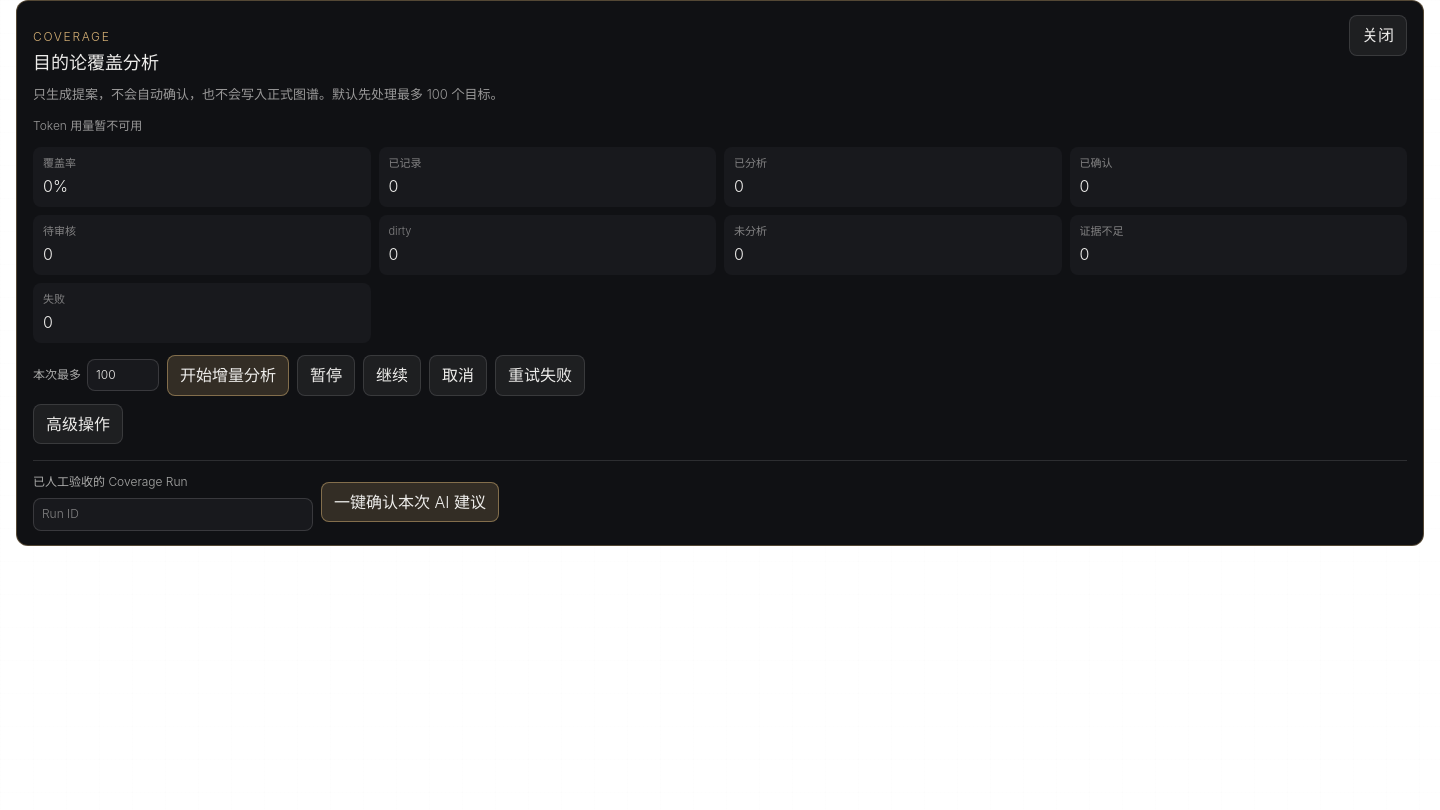
Test: confirms a reviewed coverage run only after a dry-run preview
Type "run-1" into the field labelled "已人工验收的 Coverage Run" at (173, 514), box [33,498,313,530]
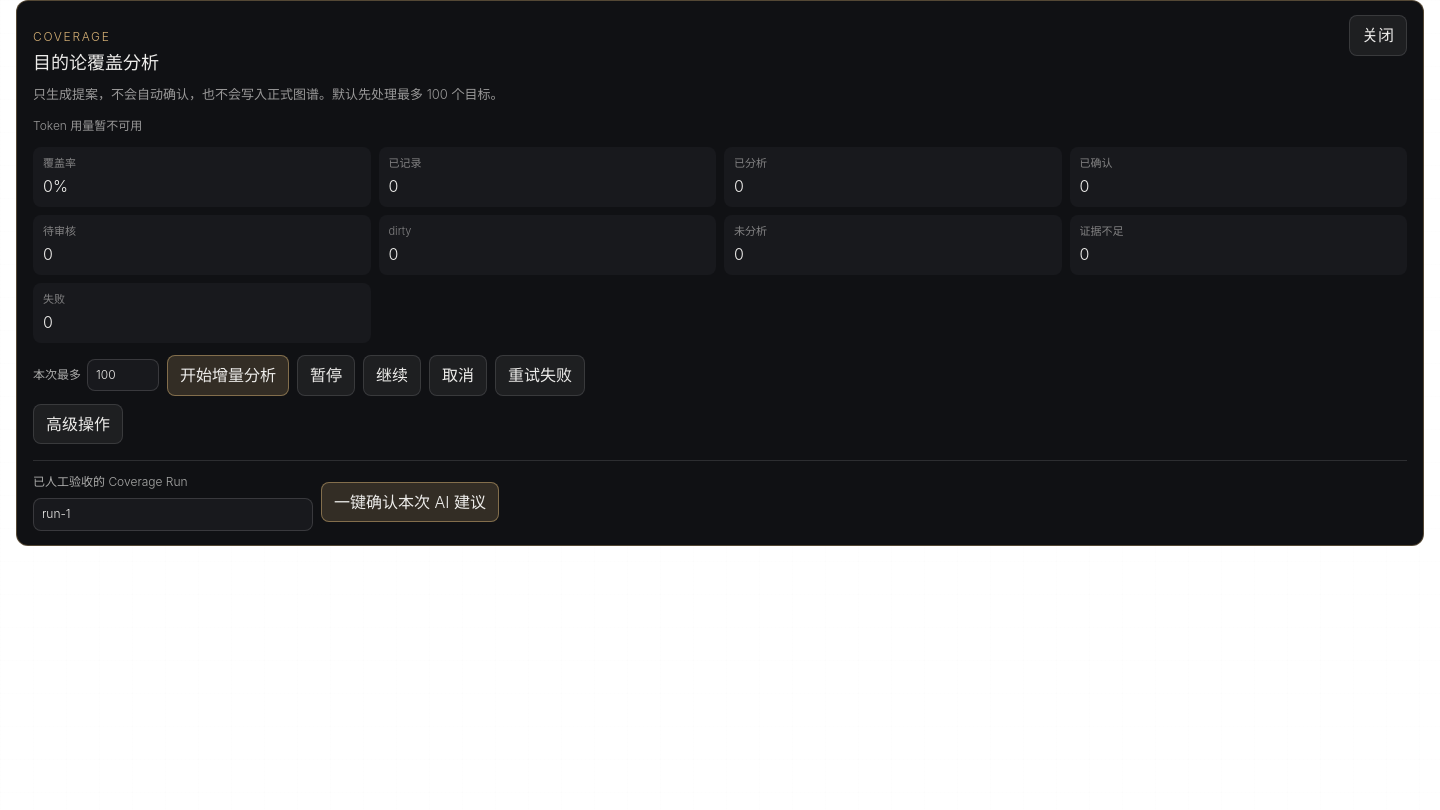
Click the button "一键确认本次 AI 建议" at (410, 502), box [321,482,499,522]
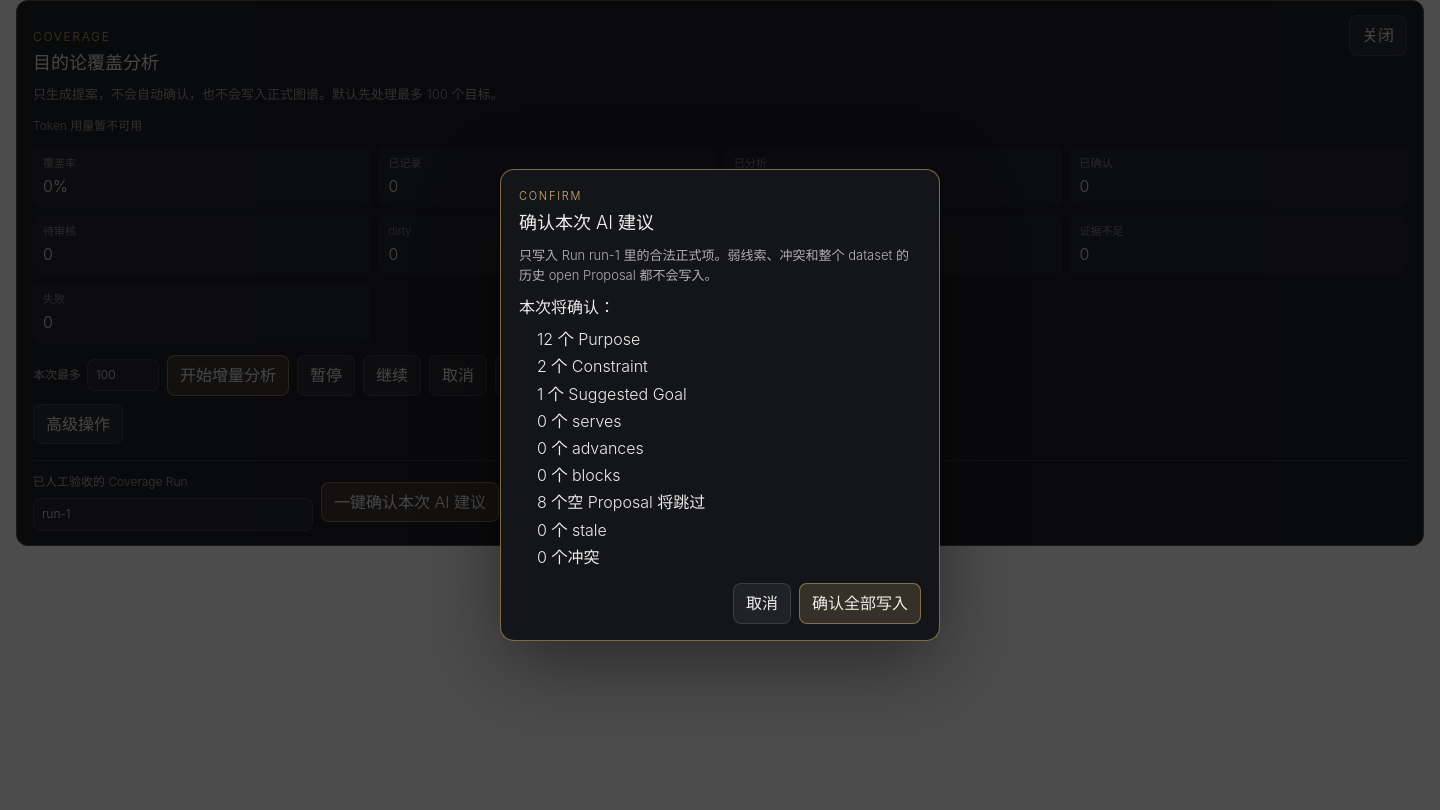
Expected: the list item "12 个 Purpose" is shown, [537,329,640,349]
Expected: the list item "2 个 Constraint" is shown, [537,356,648,376]
Expected: the list item "1 个 Suggested Goal" is shown, [537,384,687,404]
Click the button "取消" at (762, 603), box [733,583,791,624]
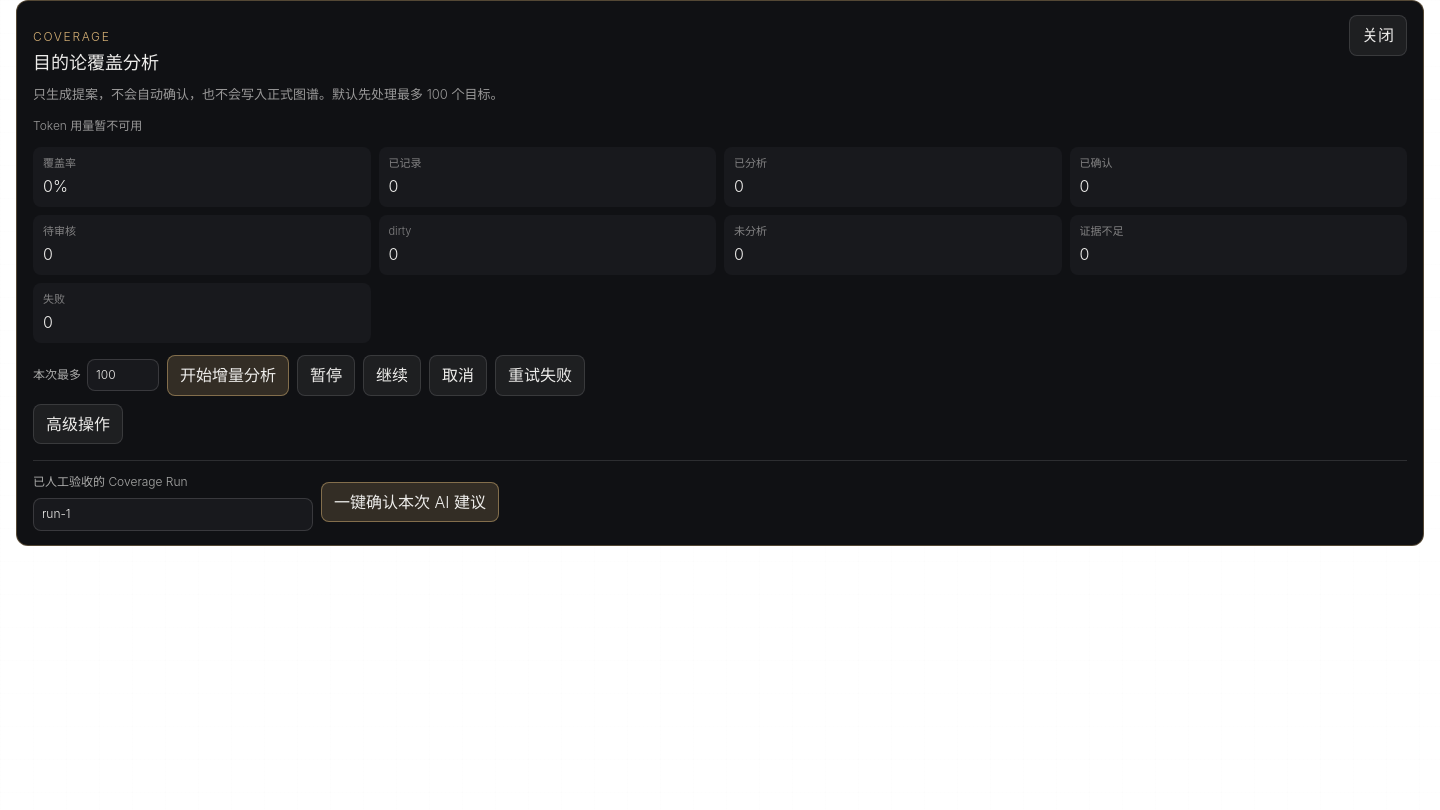
Expected: the dialog is gone
Click the button "一键确认本次 AI 建议" at (410, 502), box [321,482,499,522]
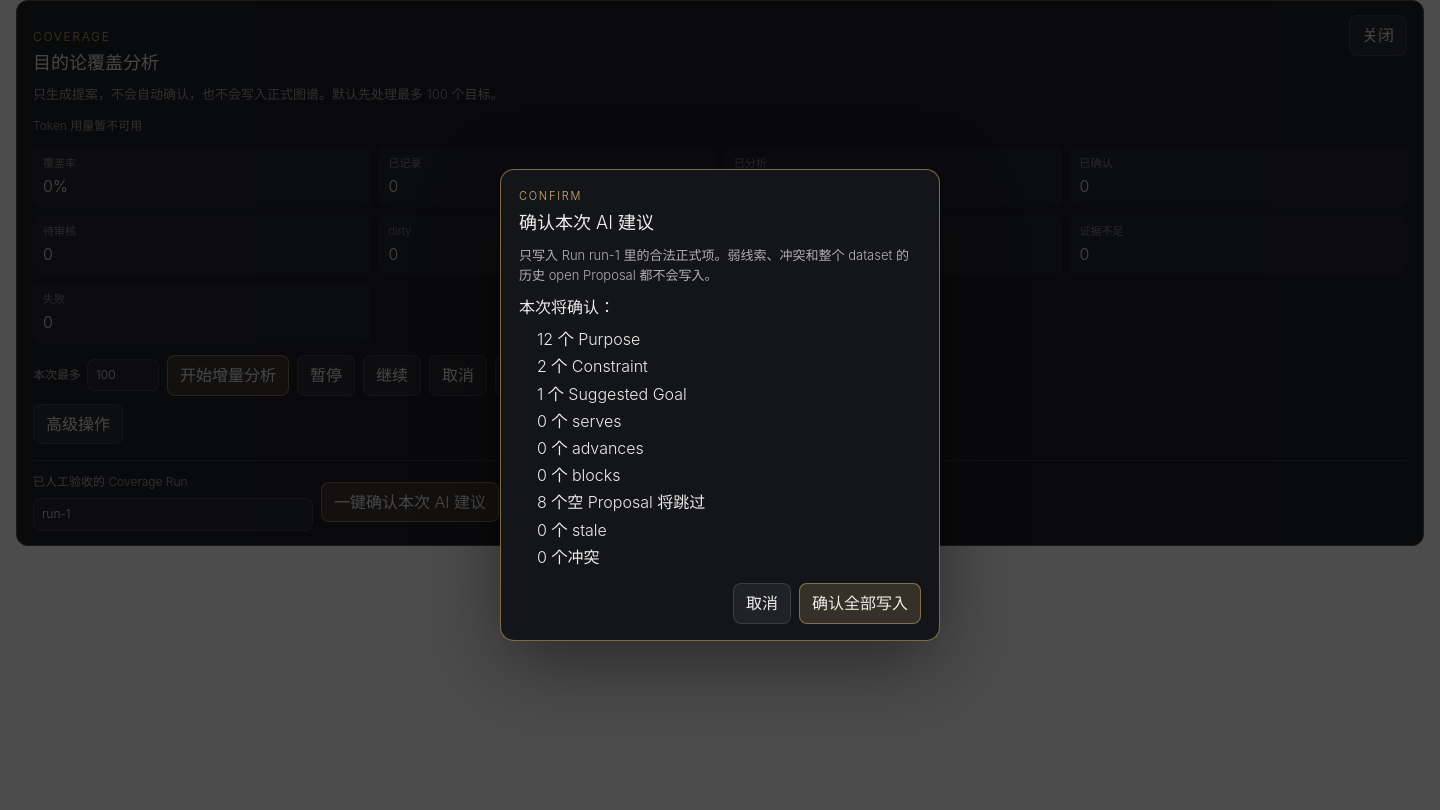
Click the button "确认全部写入" at (860, 603), box [799,583,921,624]
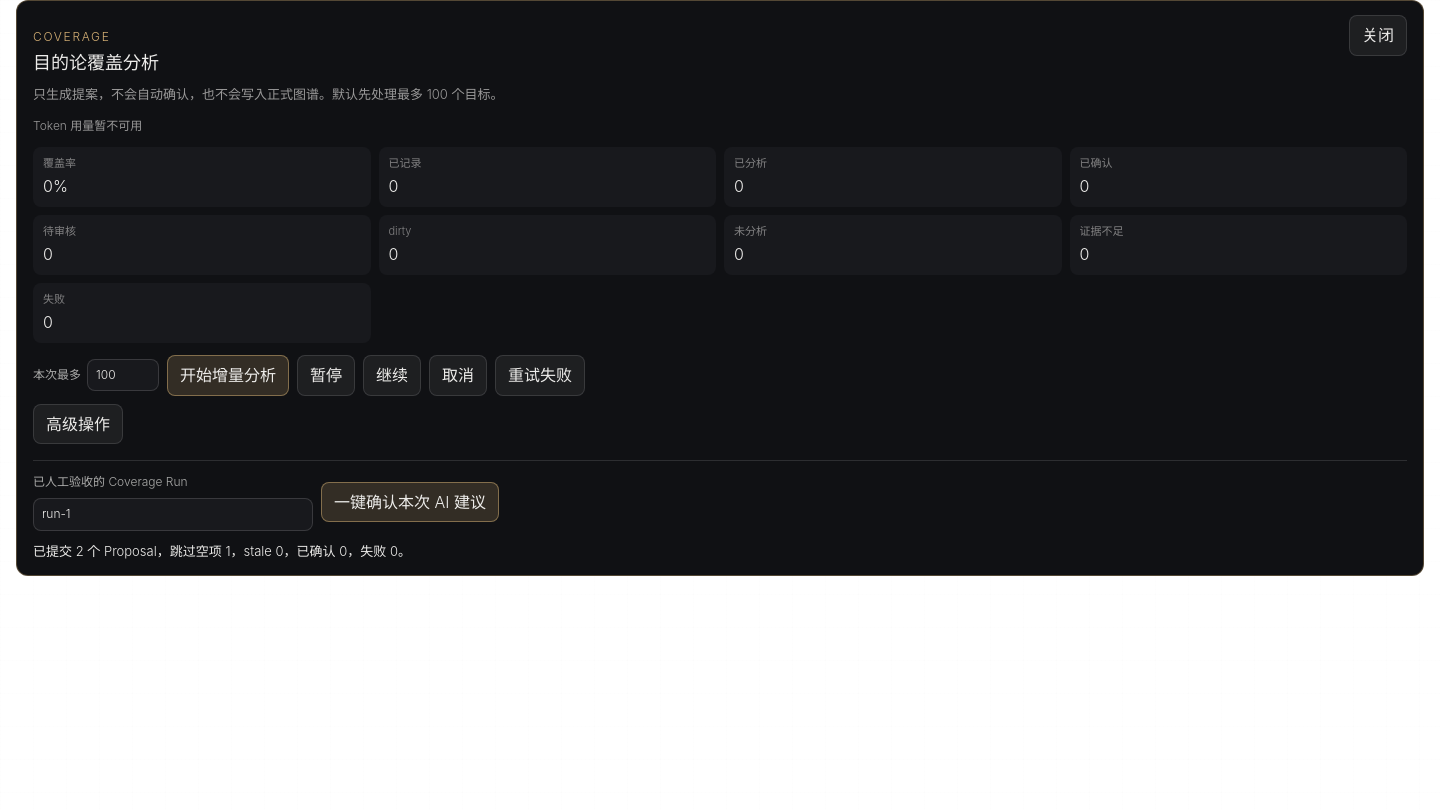
Expected: the message shows "已提交 2 个 Proposal", [33,542,411,558]
